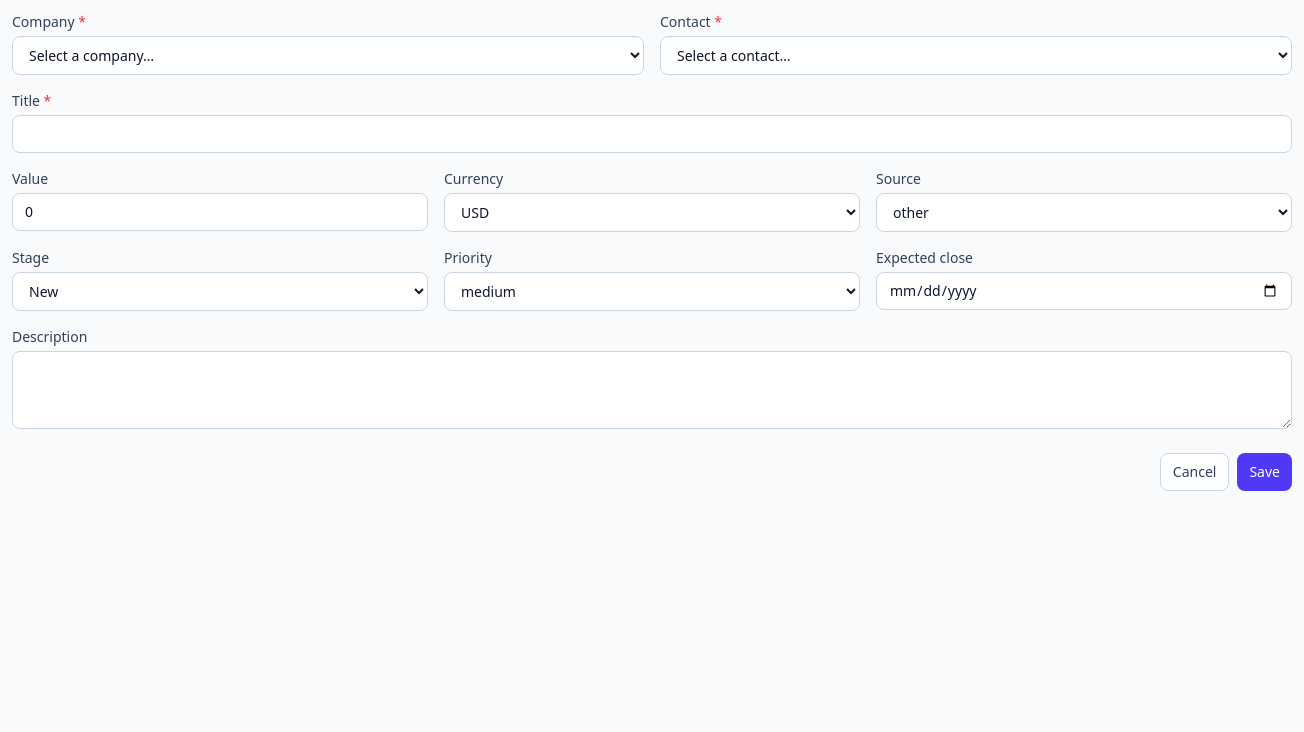
Test: LeadForm › requires company, contact and title
Click the button "Save" at (1265, 472), box [1237,453,1292,491]
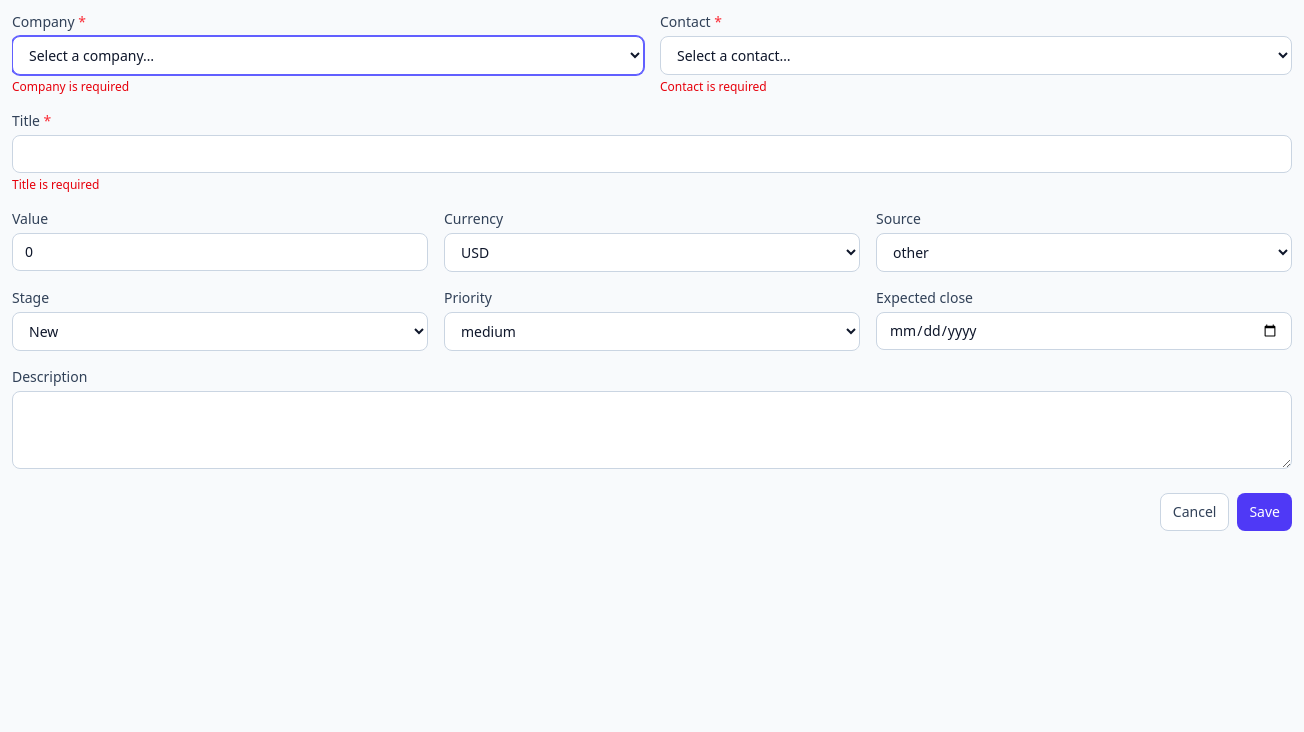
Now the text "Company is required" is shown, box [12,78,129,95]
